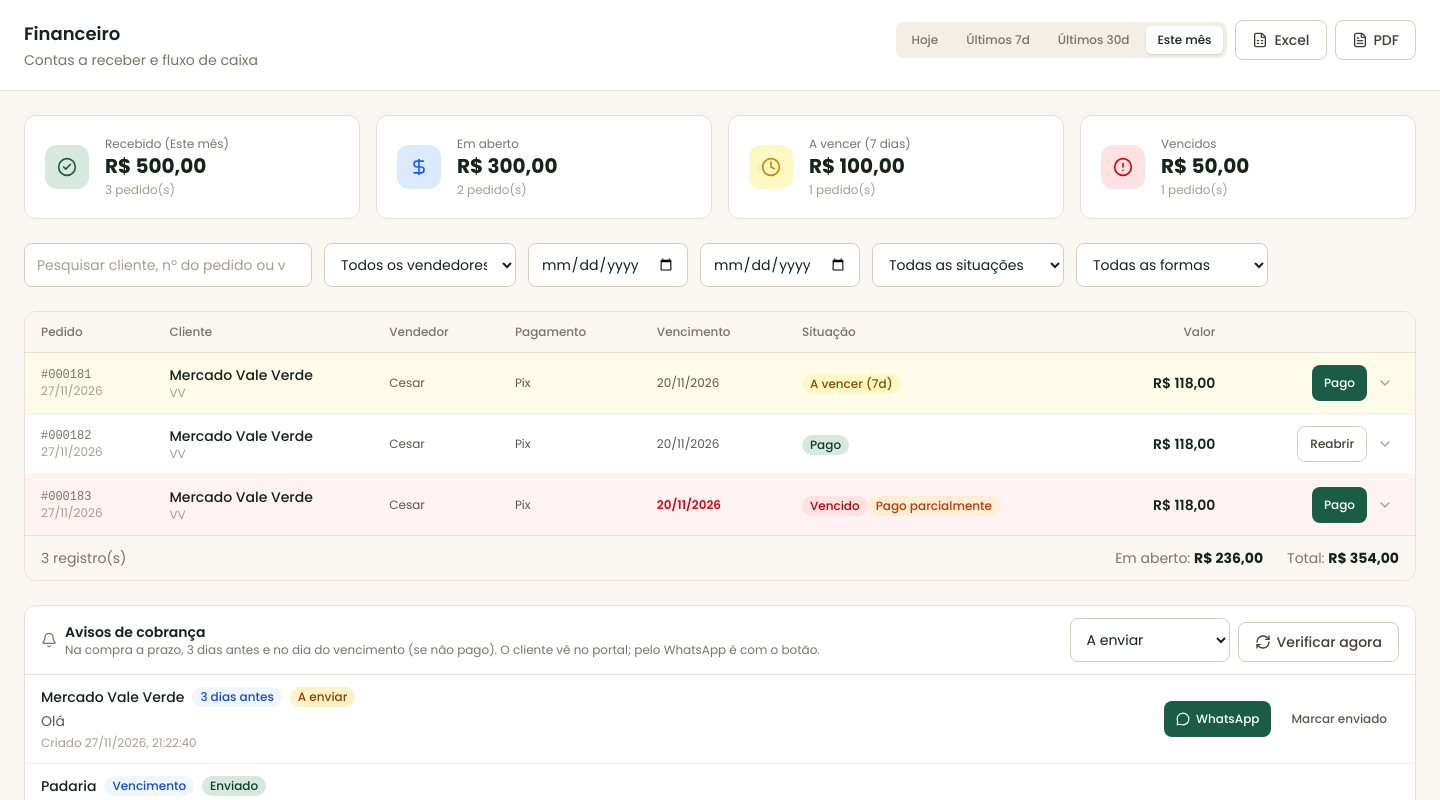
Financeiro › lista, detalhes, busca, filtros, exportação e reabrir
Later steps or results of the test are not shown.
Expected: the text "Recebido (Este mês)" is shown, [105,136,229,152]
Expected: the text "3 registro(s)" is shown, [41,548,126,568]
Click the button named "Ver detalhes" in the row of "000181": [1385, 383] box [1371,369,1399,397]
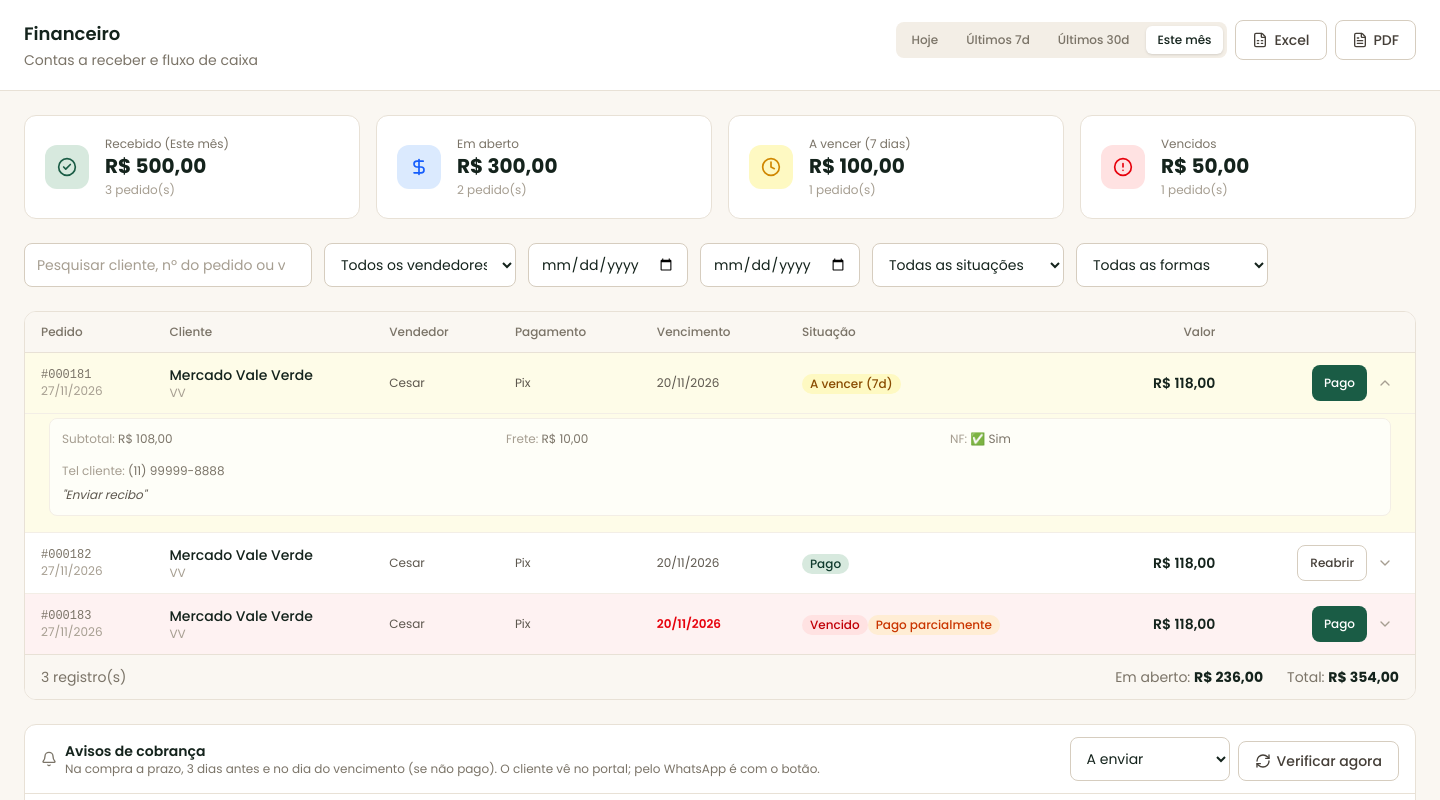
Expected: the text "\"Enviar recibo\"" is shown, [62,486,146,503]
Expected: the text "✅ Sim" is shown, [970,430,1011,447]
Expected: the text "(11) 99999-8888" is shown, [128,462,224,479]
Click the button named "Ocultar detalhes": [1385, 383] box [1371,369,1399,397]
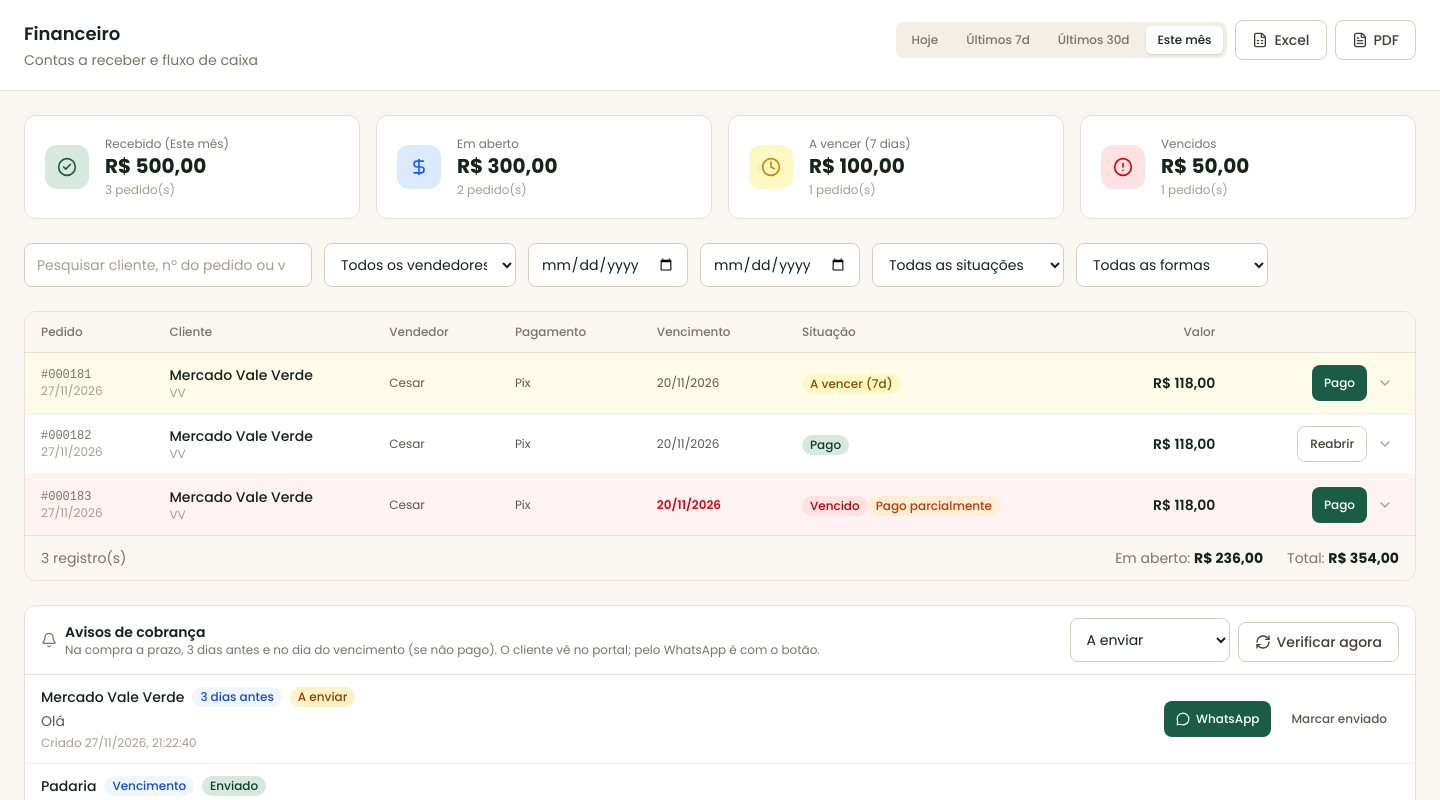
Expected: the text "\"Enviar recibo\"" is gone
